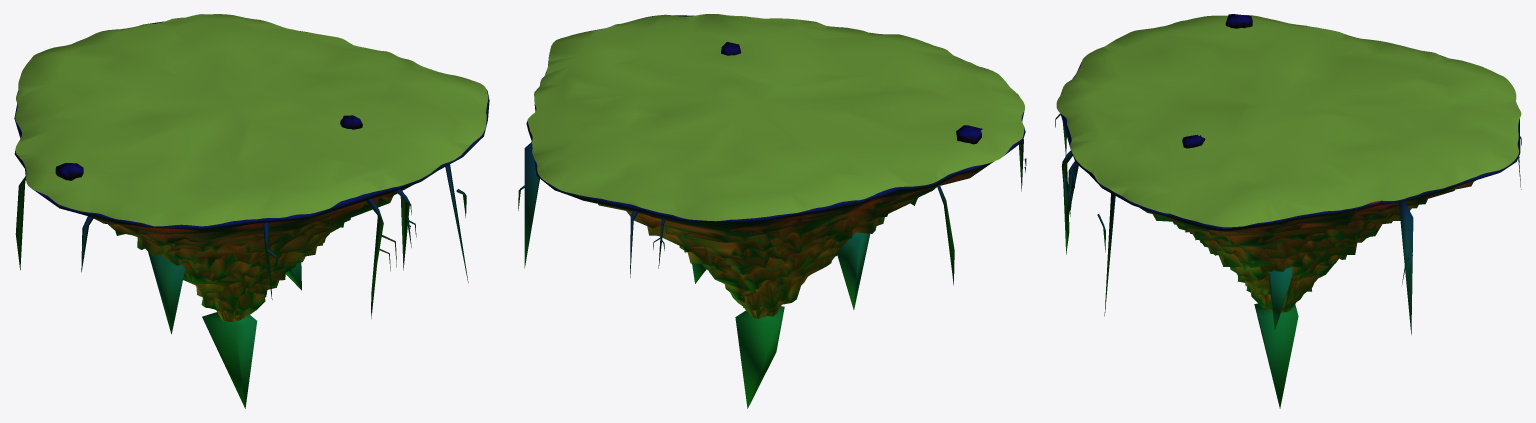
The model's file is SM_FloatingRock_B_L2.glb.
The picture shows the model from 3 angles, left to right: view 1: azimuth 30°, elevation 25°; view 2: azimuth 150°, elevation 25°; view 3: azimuth 270°, elevation 25°; orthographic projection. The views are drawn at different scales.
Parts seen in each view (by area): view 1: SM_FloatingRock_B; view 2: SM_FloatingRock_B; view 3: SM_FloatingRock_B.
Part boxes in pixels (box(x1,y1,x2,y2)): SM_FloatingRock_B: box(14, 14, 489, 408); SM_FloatingRock_B: box(518, 14, 1026, 408); SM_FloatingRock_B: box(1055, 14, 1521, 408).
Size of the model in its own units: 25.33 by 16.77 by 23.54.
